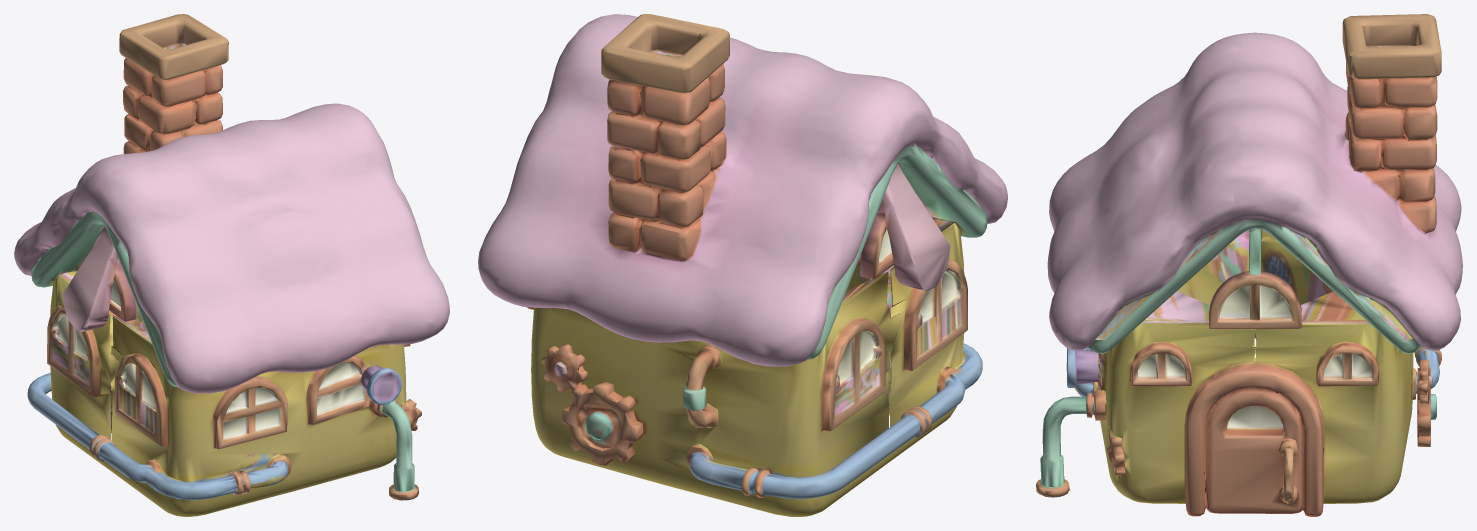
3 views of the same model, side by side, from view 1: azimuth 30°, elevation 25°; view 2: azimuth 150°, elevation 25°; view 3: azimuth 270°, elevation 25° (orthographic). The views are drawn at different scales.
Visible parts, largest first — view 1: repaired; view 2: repaired; view 3: repaired.
Boxes of the visible parts, bbox=[...] form: repaired: bbox=[14, 14, 449, 516]; repaired: bbox=[478, 14, 1007, 516]; repaired: bbox=[1036, 14, 1462, 516].
Bounding box in the file's own units: 0.8781 × 1 × 0.9309.
Materials: 1 (1 with a texture image).
